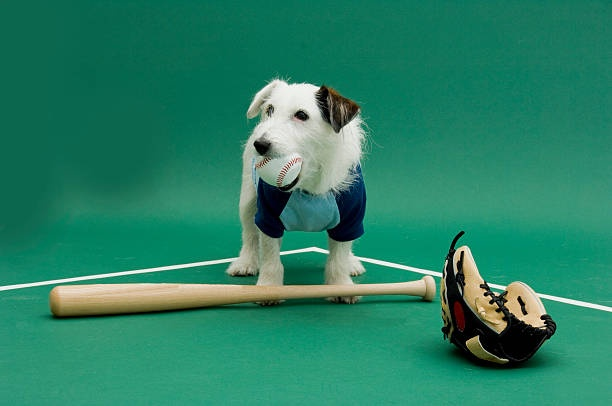bita: (44, 279, 430, 316)
